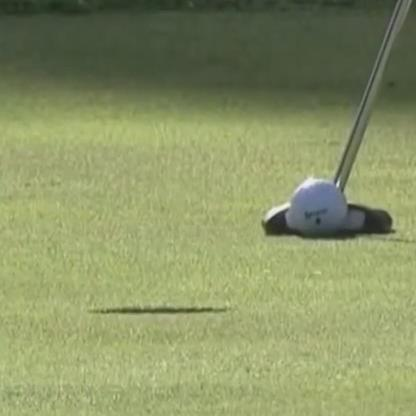golfball: (285, 173, 344, 236)
